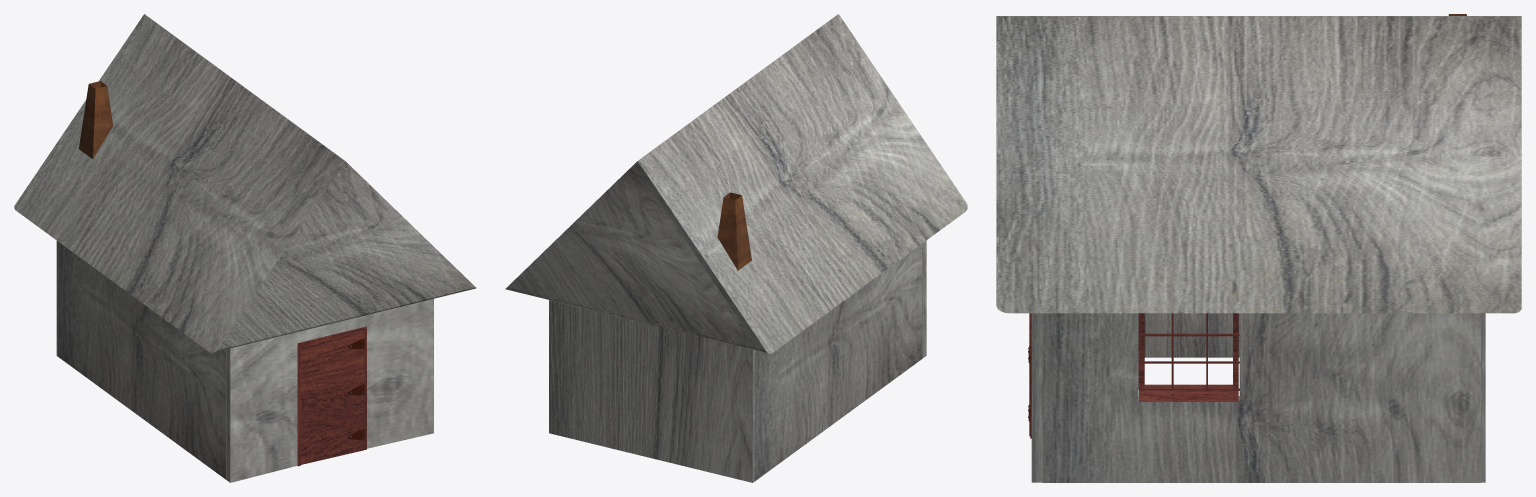
Rendered from wooden_hut.glb.
3 renders of one model, left to right at view 1: azimuth 30°, elevation 25°; view 2: azimuth 150°, elevation 25°; view 3: azimuth 270°, elevation 25°, orthographic. The views are drawn at different scales.
Parts seen in each view (by area): view 1: Cube.055_13, Cube.052_16, Cube.053_15, Cube.057_11, Cube.051_17, Cube.056_12; view 2: Cube.055_13, Cube.054_14, Cube.052_16, Cube.051_17, Cube.053_15; view 3: Cube.055_13, Cube_18, Cube.052_16, Cube.058_10, Cube.053_15, Cube.054_14.
Boxes of the visible parts, box(x1,y1,x2,y2) form: Cube.055_13: box(14, 14, 476, 352); Cube.052_16: box(58, 242, 226, 479); Cube.053_15: box(226, 299, 433, 482); Cube.057_11: box(301, 330, 364, 464); Cube.051_17: box(78, 81, 113, 158); Cube.056_12: box(297, 326, 366, 466); Cube.055_13: box(505, 14, 967, 353); Cube.054_14: box(549, 300, 754, 482); Cube.052_16: box(754, 244, 922, 481); Cube.051_17: box(717, 192, 751, 270); Cube.053_15: box(922, 240, 926, 358); Cube.055_13: box(996, 16, 1521, 313); Cube_18: box(1042, 313, 1480, 482); Cube.052_16: box(1144, 313, 1239, 357); Cube.058_10: box(1138, 313, 1238, 401); Cube.053_15: box(1031, 313, 1042, 482); Cube.054_14: box(1481, 313, 1485, 482).
Size of the model in its own units: 33.85 by 37.4 by 44.35.
16 materials, 12 textured.
